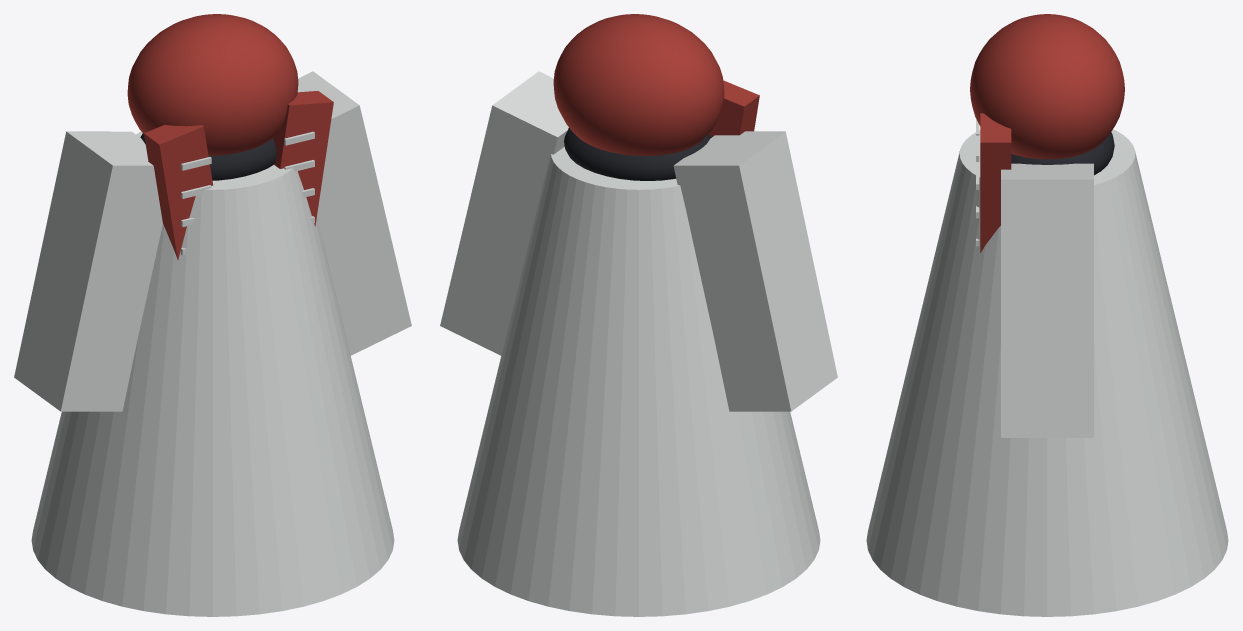
The model's file is robe.glb.
3 renders of one model, left to right at view 1: azimuth 30°, elevation 25°; view 2: azimuth 150°, elevation 25°; view 3: azimuth 270°, elevation 25°, orthographic.
Parts seen in each view (by area): view 1: Robe, Manche, Étoffe, Manche.001, Écharpe, Écharpe.001, Col; view 2: Robe, Manche, Étoffe, Manche.001, Col, Écharpe; view 3: Robe, Manche.001, Étoffe, Écharpe.001, Col.
Part boxes in pixels (<box>): Robe: <box>31,131,394,616</box>; Manche: <box>14,131,162,411</box>; Étoffe: <box>127,14,298,155</box>; Manche.001: <box>297,71,411,355</box>; Écharpe: <box>144,125,213,260</box>; Écharpe.001: <box>273,91,333,226</box>; Col: <box>140,133,276,180</box>; Robe: <box>457,147,820,616</box>; Manche: <box>673,131,837,411</box>; Étoffe: <box>553,14,724,155</box>; Manche.001: <box>440,71,568,355</box>; Col: <box>564,128,711,180</box>; Écharpe: <box>709,80,759,137</box>; Robe: <box>866,129,1228,616</box>; Manche.001: <box>1001,163,1093,437</box>; Étoffe: <box>970,14,1124,159</box>; Écharpe.001: <box>980,113,1011,252</box>; Col: <box>1011,132,1114,175</box>.
Size of the model in its own units: 1.56 by 2.2 by 1.4.
